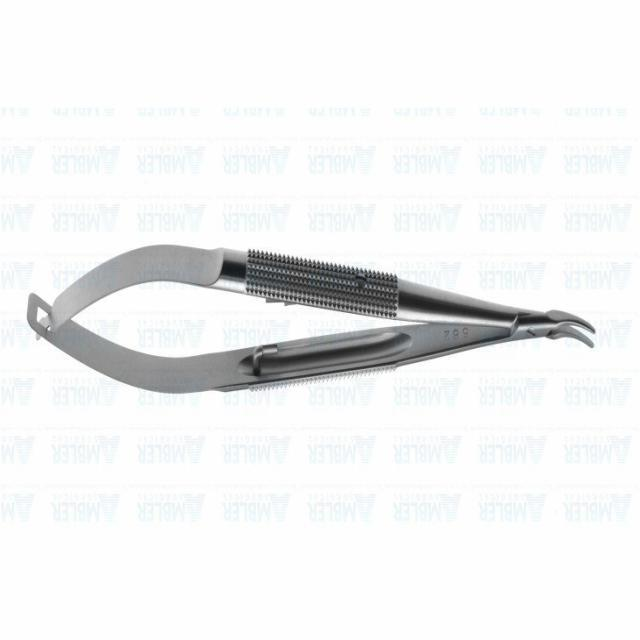Castroviejo: (21, 234, 602, 403)
